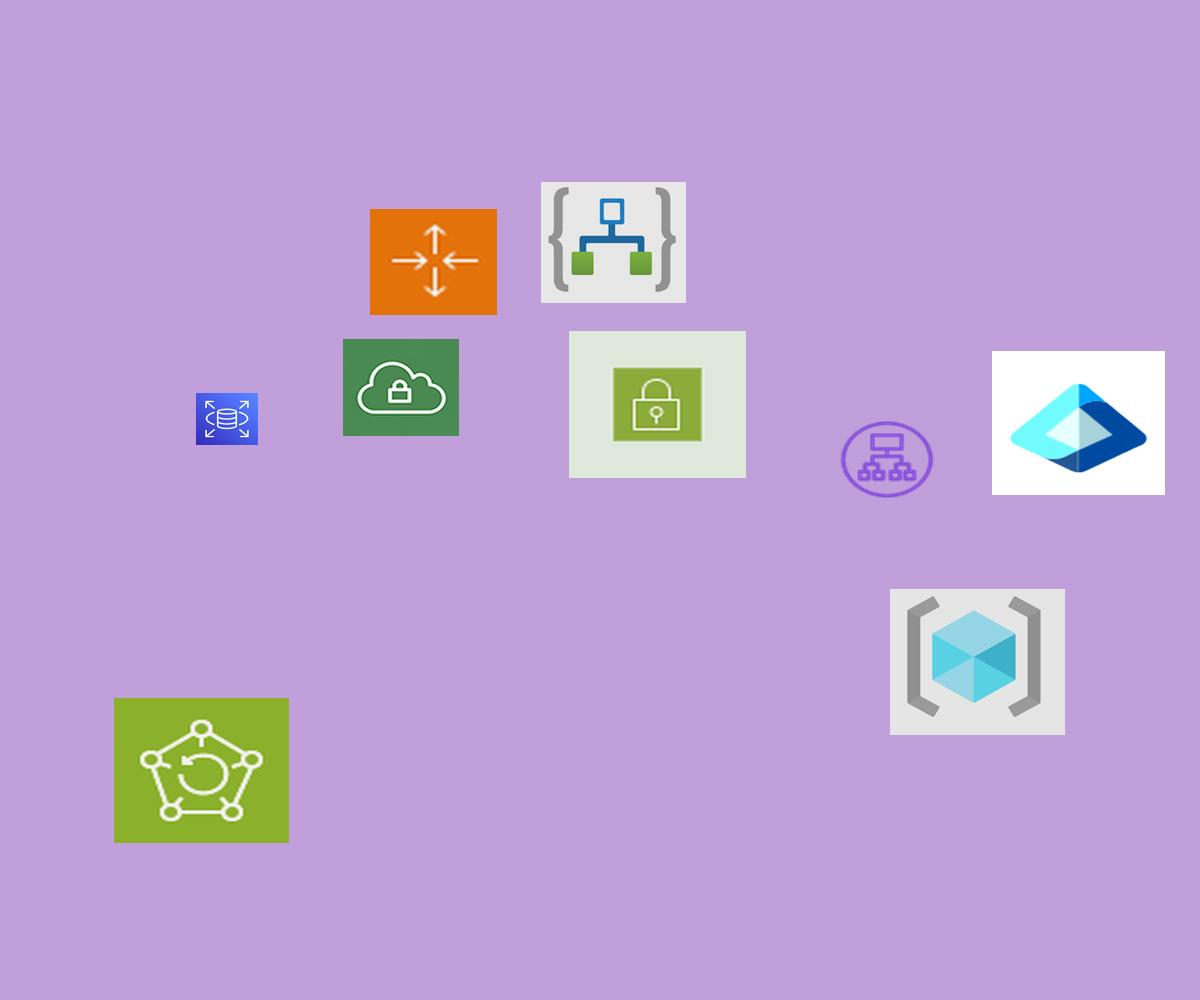AWS-Backup: (114, 698, 289, 843)
AWS-Private_vpc: (343, 339, 459, 436)
AWS-Public-subnet: (569, 331, 746, 478)
AWS-RDS: (196, 393, 258, 445)
AWS-Res_Elastic-Load-Balancing_Application-Load-Balancer: (837, 418, 937, 501)
AWS-Scaling-group: (370, 209, 497, 315)
Azure_integration-204-Logic-Apps: (541, 182, 686, 303)
Azure_microsoft_entra: (992, 351, 1165, 495)
Azure_resource_group: (890, 589, 1065, 735)
